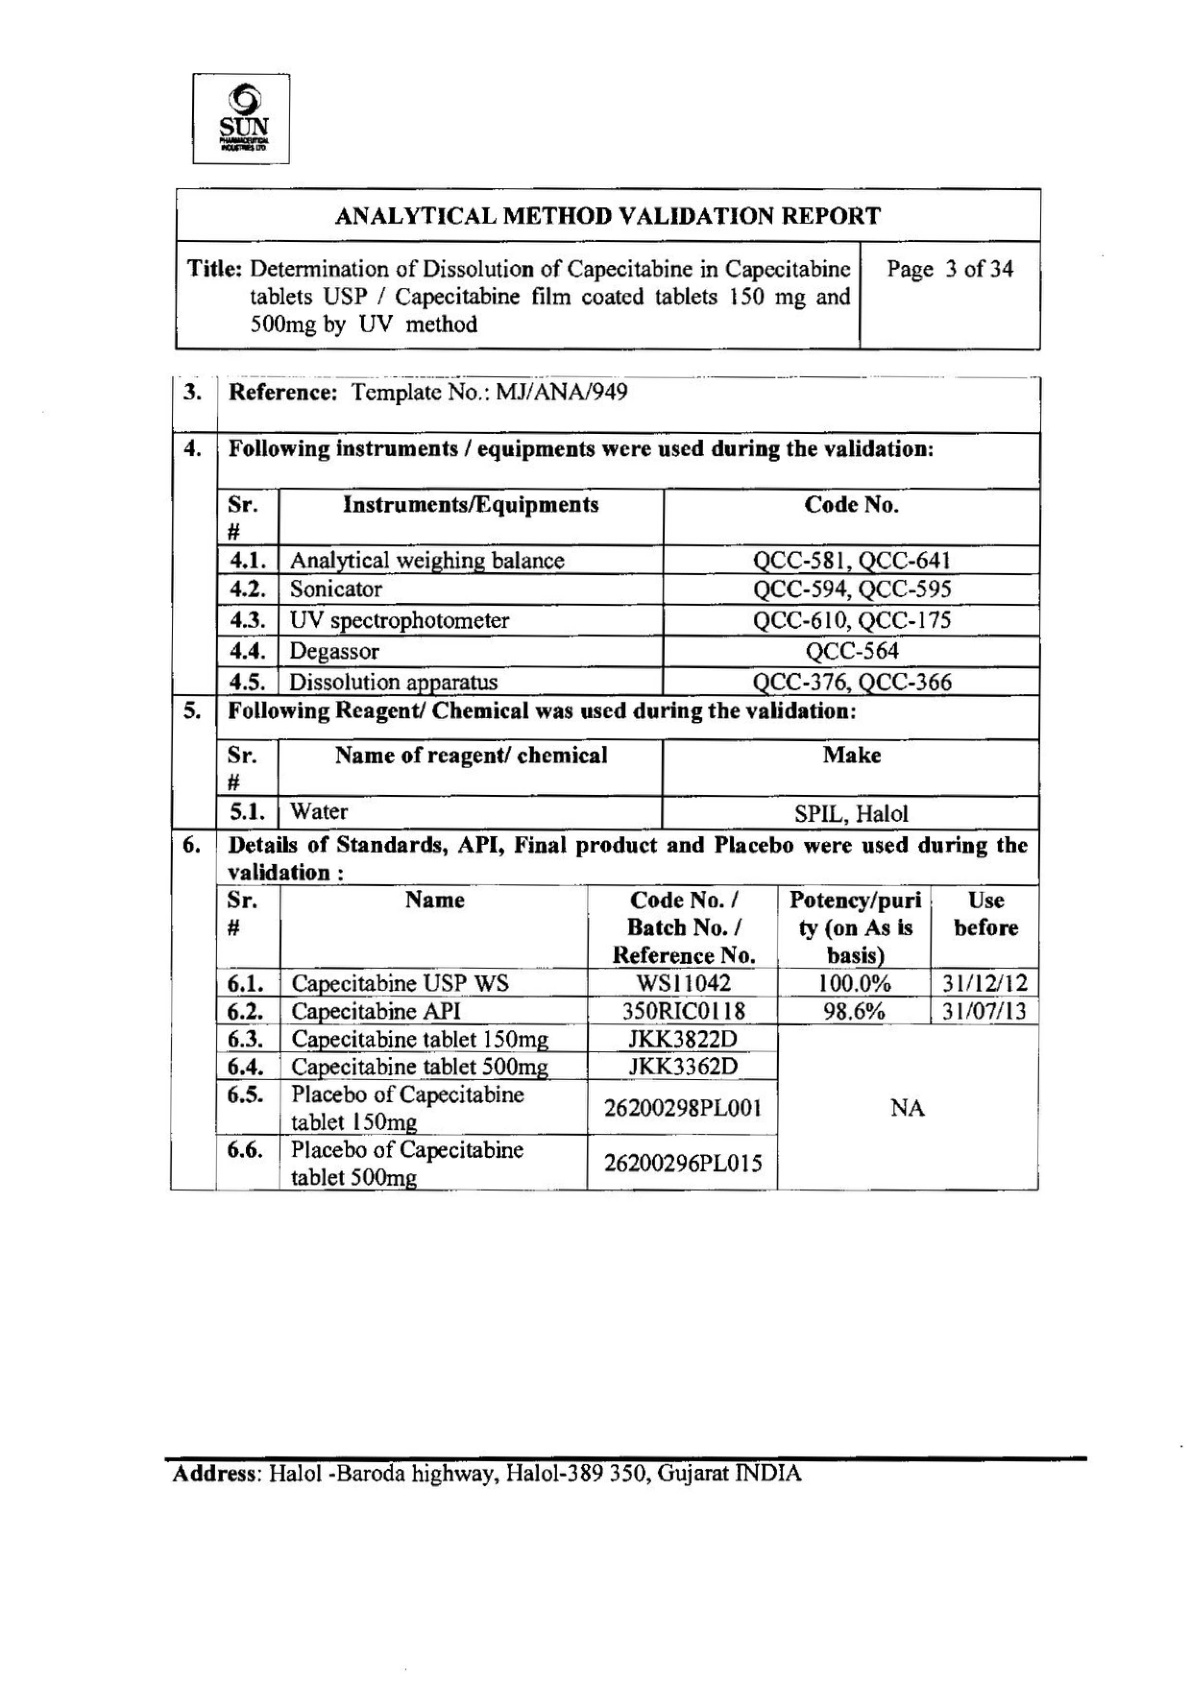merged_cells: (170, 372, 1041, 1193), (173, 186, 1043, 352)
